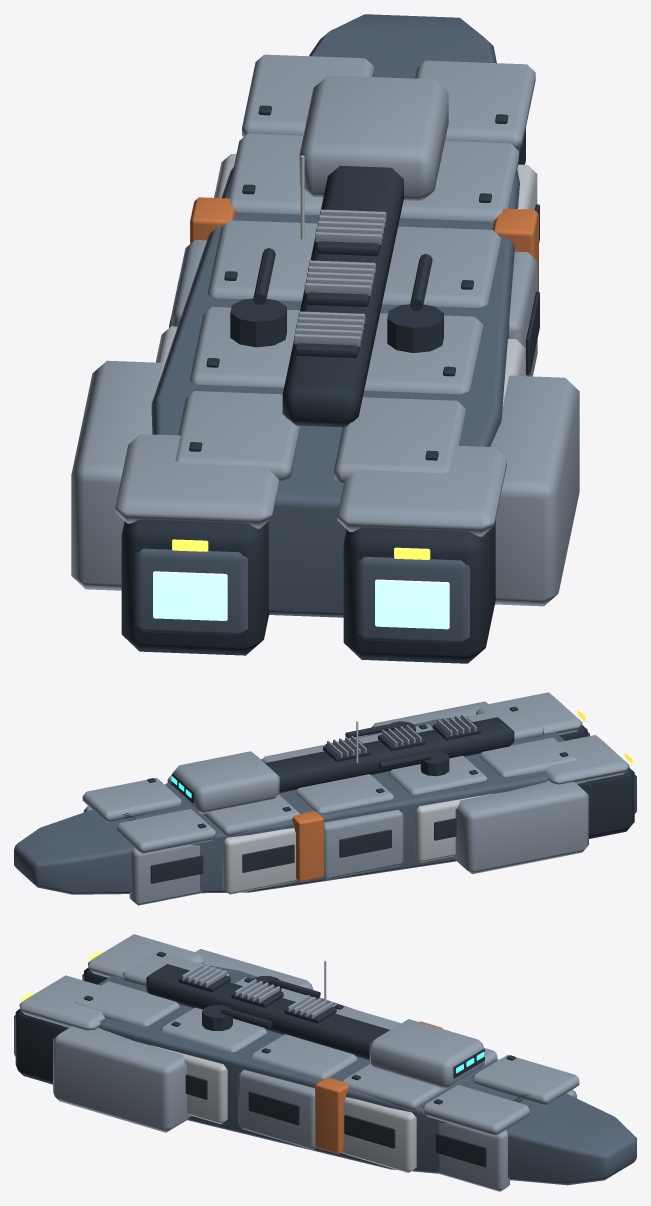
Rendered from frigate.glb.
The picture shows the model from 3 angles, top to bottom: view 1: azimuth 30°, elevation 25°; view 2: azimuth 150°, elevation 25°; view 3: azimuth 270°, elevation 25°; orthographic projection. The views are drawn at different scales.
Visible parts, largest first — view 1: Frigate | keel, Frigate | armored shoulder.001, Frigate | bridge superstructure, Frigate | armored shoulder, Frigate | dorsal spine, Frigate | engine armor cap.001, Frigate | engine armor cap, Frigate | rear engine housing.001, Frigate | rear engine housing, Frigate | top armor.005, Frigate | top armor, Frigate | top armor.007 (+17 smaller); view 2: Frigate | keel, Frigate | armored shoulder, Frigate | dorsal spine, Frigate | bridge superstructure, Frigate | flank armor.002, Frigate | flank armor.003, Frigate | top armor.004, Frigate | top armor.009, Frigate | rear engine housing, Frigate | flank armor.004, Frigate | engine armor cap, Frigate | top armor.002 (+19 smaller); view 3: Frigate | keel, Frigate | armored shoulder.001, Frigate | dorsal spine, Frigate | bridge superstructure, Frigate | flank armor.007, Frigate | flank armor.008, Frigate | top armor.009, Frigate | top armor.004, Frigate | flank armor.009, Frigate | engine armor cap.001, Frigate | top armor.007, Frigate | top armor.005 (+16 smaller).
Part boxes in pixels (bbox=[...]): Frigate | keel: bbox=[151, 14, 519, 617]; Frigate | armored shoulder.001: bbox=[490, 375, 579, 606]; Frigate | bridge superstructure: bbox=[299, 75, 448, 200]; Frigate | armored shoulder: bbox=[71, 360, 162, 590]; Frigate | dorsal spine: bbox=[282, 165, 403, 427]; Frigate | engine armor cap.001: bbox=[337, 445, 506, 536]; Frigate | engine armor cap: bbox=[115, 434, 279, 528]; Frigate | rear engine housing.001: bbox=[343, 520, 495, 663]; Frigate | rear engine housing: bbox=[121, 519, 269, 655]; Frigate | top armor.005: bbox=[334, 397, 465, 482]; Frigate | top armor: bbox=[175, 391, 299, 480]; Frigate | top armor.007: bbox=[382, 226, 501, 307]; Frigate | keel: bbox=[14, 716, 564, 894]; Frigate | armored shoulder: bbox=[452, 781, 588, 874]; Frigate | dorsal spine: bbox=[265, 717, 514, 792]; Frigate | bridge superstructure: bbox=[172, 751, 279, 814]; Frigate | flank armor.002: bbox=[323, 810, 403, 879]; Frigate | flank armor.003: bbox=[222, 828, 298, 894]; Frigate | top armor.004: bbox=[117, 809, 216, 854]; Frigate | top armor.009: bbox=[82, 778, 181, 822]; Frigate | rear engine housing: bbox=[577, 767, 634, 838]; Frigate | flank armor.004: bbox=[129, 845, 201, 905]; Frigate | engine armor cap: bbox=[544, 735, 629, 784]; Frigate | top armor.002: bbox=[295, 774, 394, 813]; Frigate | keel: bbox=[98, 964, 636, 1185]; Frigate | armored shoulder.001: bbox=[53, 1026, 190, 1132]; Frigate | dorsal spine: bbox=[146, 964, 389, 1060]; Frigate | bridge superstructure: bbox=[369, 1019, 484, 1089]; Frigate | flank armor.007: bbox=[238, 1069, 316, 1149]; Frigate | flank armor.008: bbox=[341, 1097, 416, 1172]; Frigate | top armor.009: bbox=[423, 1085, 529, 1136]; Frigate | top armor.004: bbox=[473, 1055, 579, 1105]; Frigate | flank armor.009: bbox=[437, 1122, 509, 1191]; Frigate | engine armor cap.001: bbox=[19, 975, 104, 1030]; Frigate | top armor.007: bbox=[251, 1034, 357, 1079]; Frigate | top armor.005: bbox=[75, 981, 179, 1026].
Bounding box in the file's own units: 7.53 × 2.48 × 9.63.
